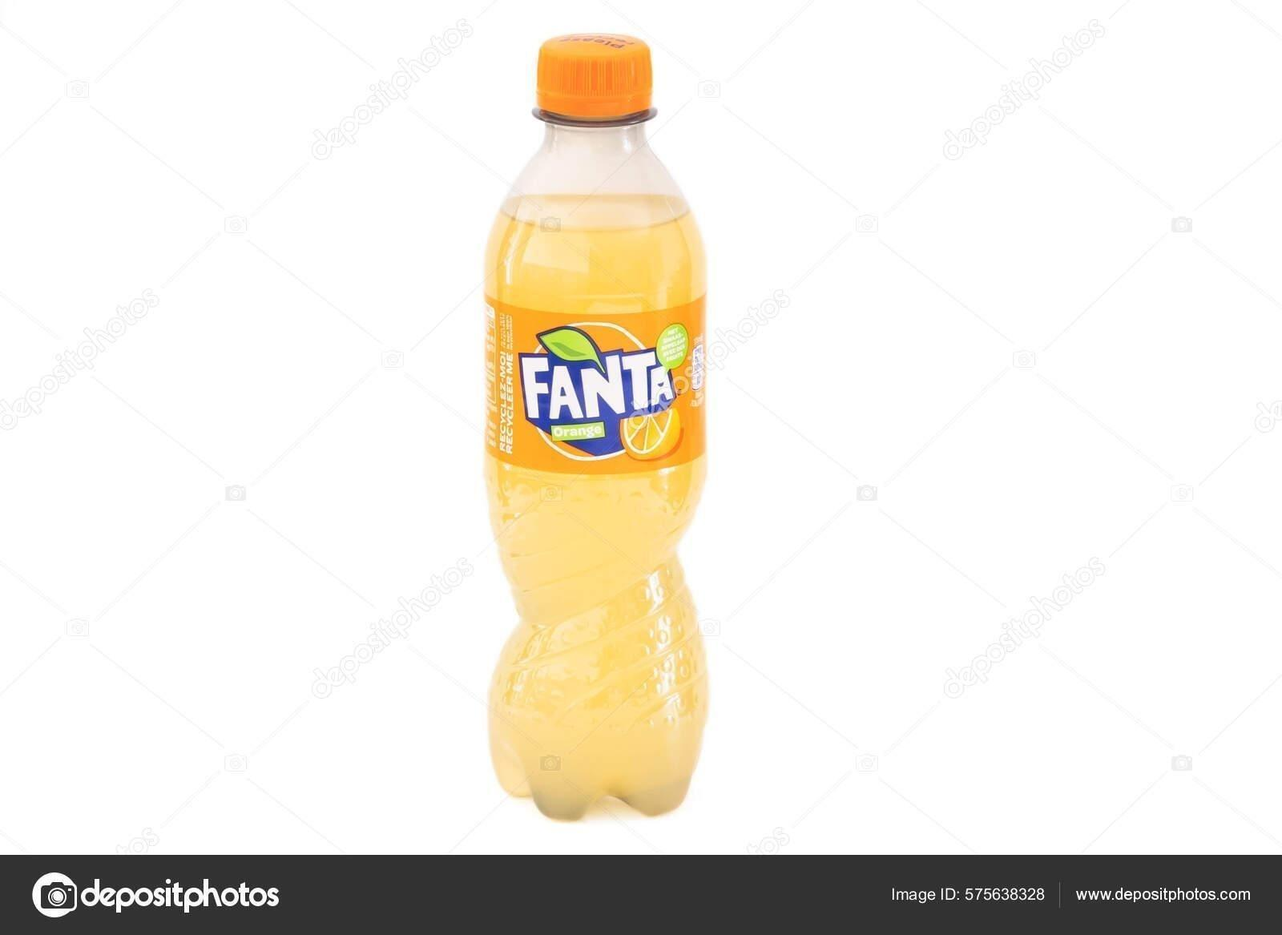bottle-plastic: (478, 23, 720, 827)
